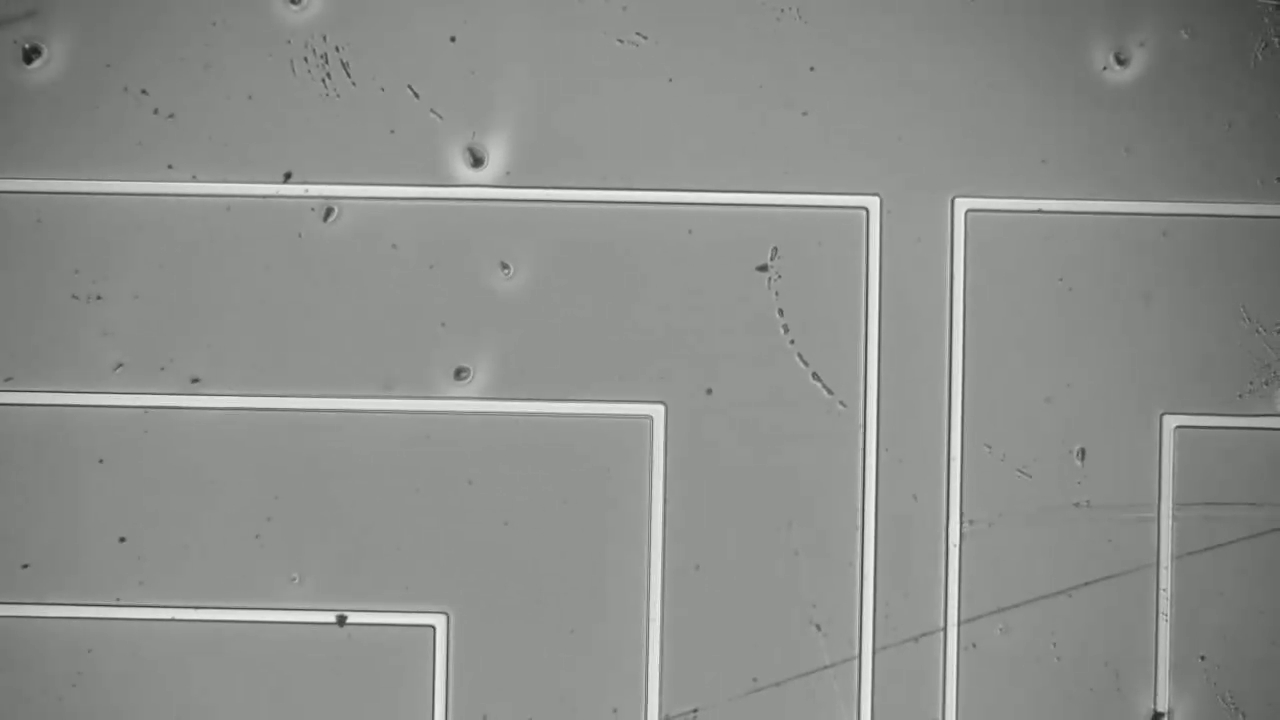scratch: (674, 527, 1271, 713), (765, 254, 837, 398)
stains_enbedded: (330, 603, 355, 634)
